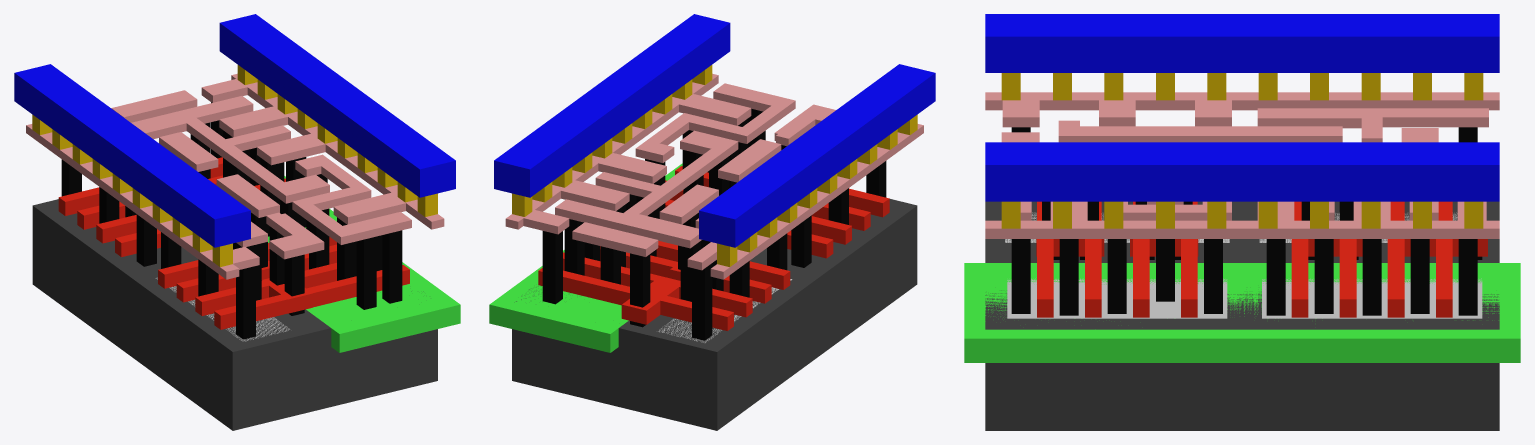
File: sky130_fd_sc_hd__o211ai_2.obj
3 views of the same model, side by side, from view 1: azimuth 30°, elevation 25°; view 2: azimuth 150°, elevation 25°; view 3: azimuth 270°, elevation 25° (orthographic). The views are drawn at different scales.
Parts seen in each view (by area): view 1: subs, metal1, li, licon, poly, nwell, mcon, diff; view 2: subs, metal1, li, licon, poly, nwell, mcon, diff; view 3: metal1, subs, li, nwell, licon, poly, mcon, tap.
Boxes of the visible parts, x1,y1,x2,y2 form: subs: (32, 199, 437, 430); metal1: (14, 14, 455, 247); li: (26, 73, 444, 279); licon: (61, 102, 402, 339); poly: (58, 157, 409, 329); nwell: (268, 176, 460, 352); mcon: (32, 65, 437, 266); diff: (155, 277, 289, 341); subs: (512, 199, 917, 430); metal1: (494, 14, 935, 247); li: (505, 73, 923, 279); licon: (542, 108, 886, 340); poly: (538, 166, 889, 330); nwell: (489, 163, 682, 352); mcon: (512, 65, 917, 266); diff: (658, 279, 792, 342); metal1: (985, 14, 1499, 201); subs: (985, 201, 1499, 430); li: (985, 92, 1499, 238); nwell: (964, 263, 1520, 362); licon: (1011, 127, 1482, 315); poly: (1036, 201, 1487, 317); mcon: (1001, 73, 1483, 228); tap: (1007, 278, 1482, 318).
Bounding box in the file's own units: 3.2 × 2.74 × 4.98.
